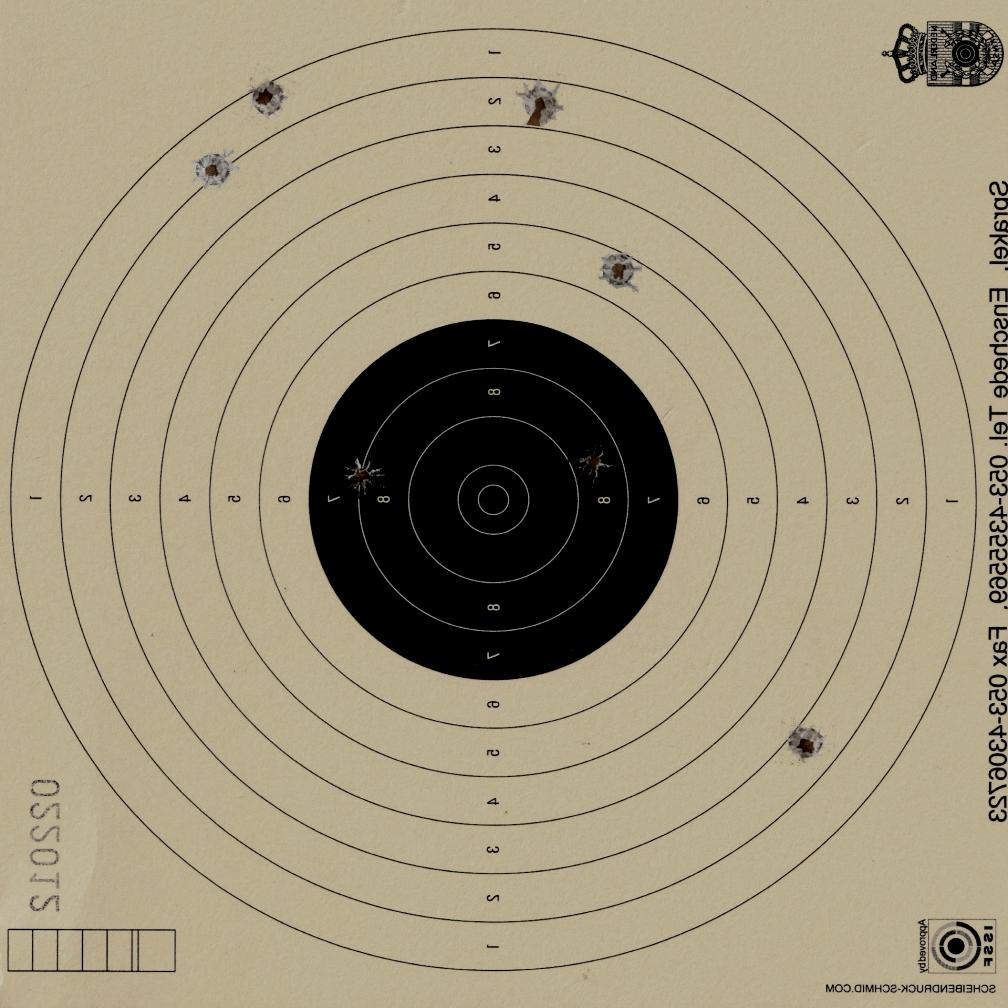1: (246, 74, 287, 120)
2: (516, 80, 565, 124), (192, 148, 236, 188)
3: (784, 724, 826, 765)
5: (597, 251, 643, 293)
8: (344, 456, 386, 497)
9: (564, 443, 616, 488)
Target: (6, 24, 982, 974)
black_contour: (309, 319, 680, 681)
